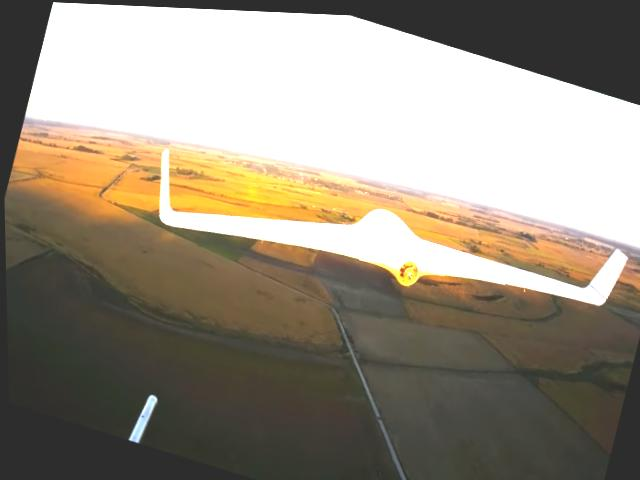plane: (142, 106, 630, 355)
